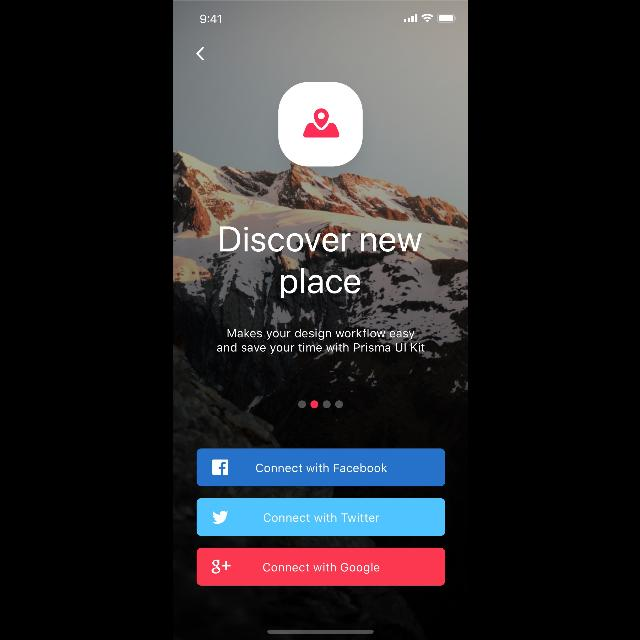backgroundimage: (172, 1, 468, 640)
icon: (195, 47, 203, 61)
image: (278, 82, 362, 166)
pageindicator: (298, 400, 342, 408)
text: (219, 226, 421, 298), (216, 328, 424, 354)
textbutton: (196, 449, 444, 487), (196, 498, 444, 536), (196, 548, 444, 586)
uppertaskbar: (199, 14, 456, 24)
